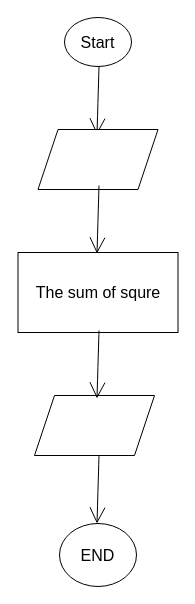
The diagram is 195 pixels wide and 604 high, and some of its shapes have lost their labels. The shapes that lost their labels are listed below. From the top down, each one's centre as x and y in pixels, then its label:
At (x=97, y=159): "Enter Squre".
At (x=94, y=425): "The sum of squre is sum".
